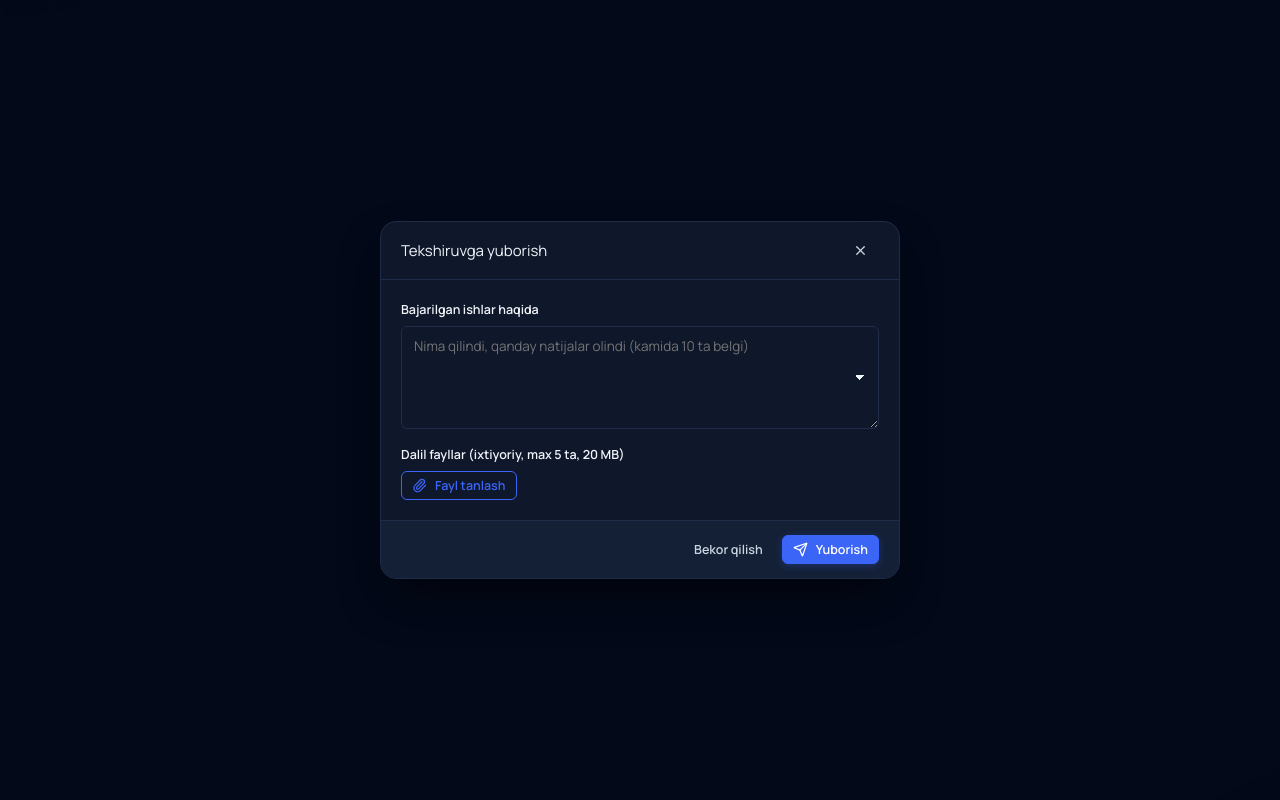
Test: SubmitForReviewModal › shows error when submitting with empty comment
Click the button "Yuborish": click(830, 549) x1=782 y1=535 x2=879 y2=564
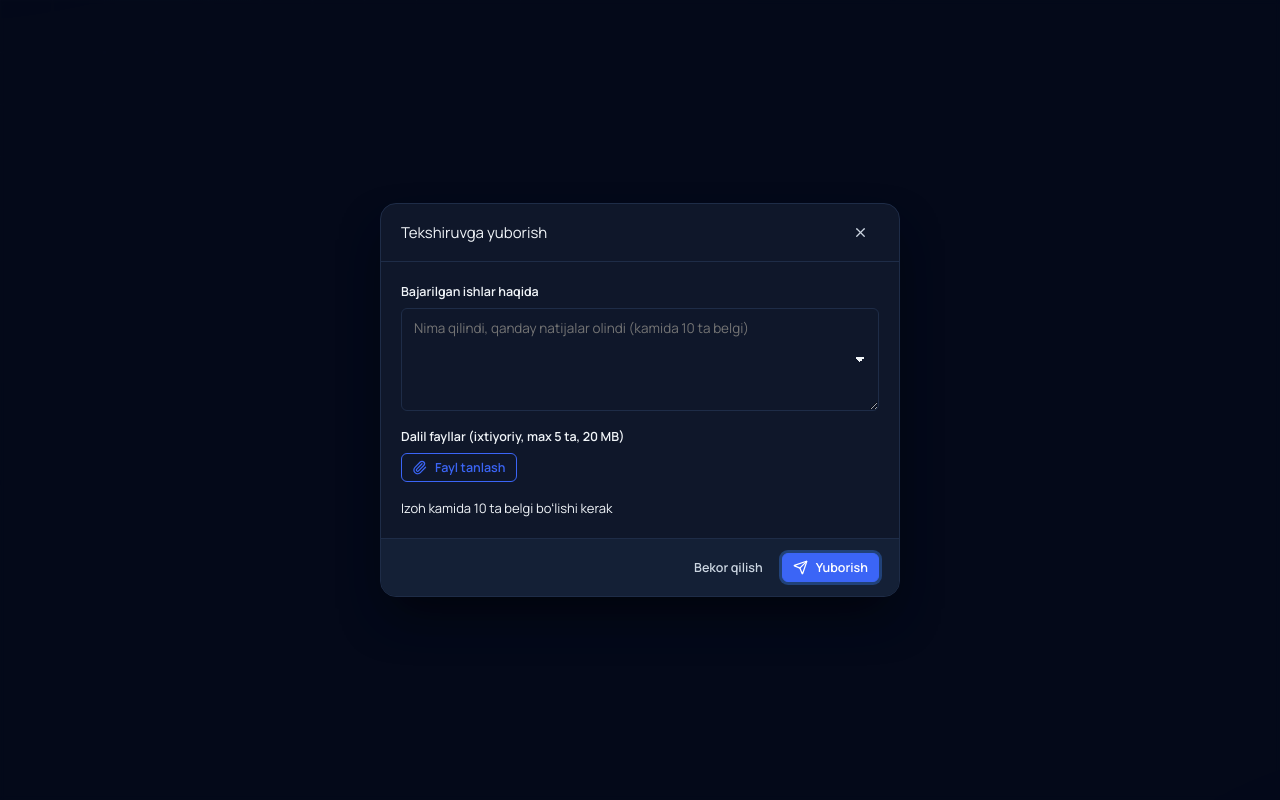
Check: the text "Izoh kamida 10 ta belgi boʻlishi kerak" is shown, box x1=401 y1=499 x2=612 y2=517
